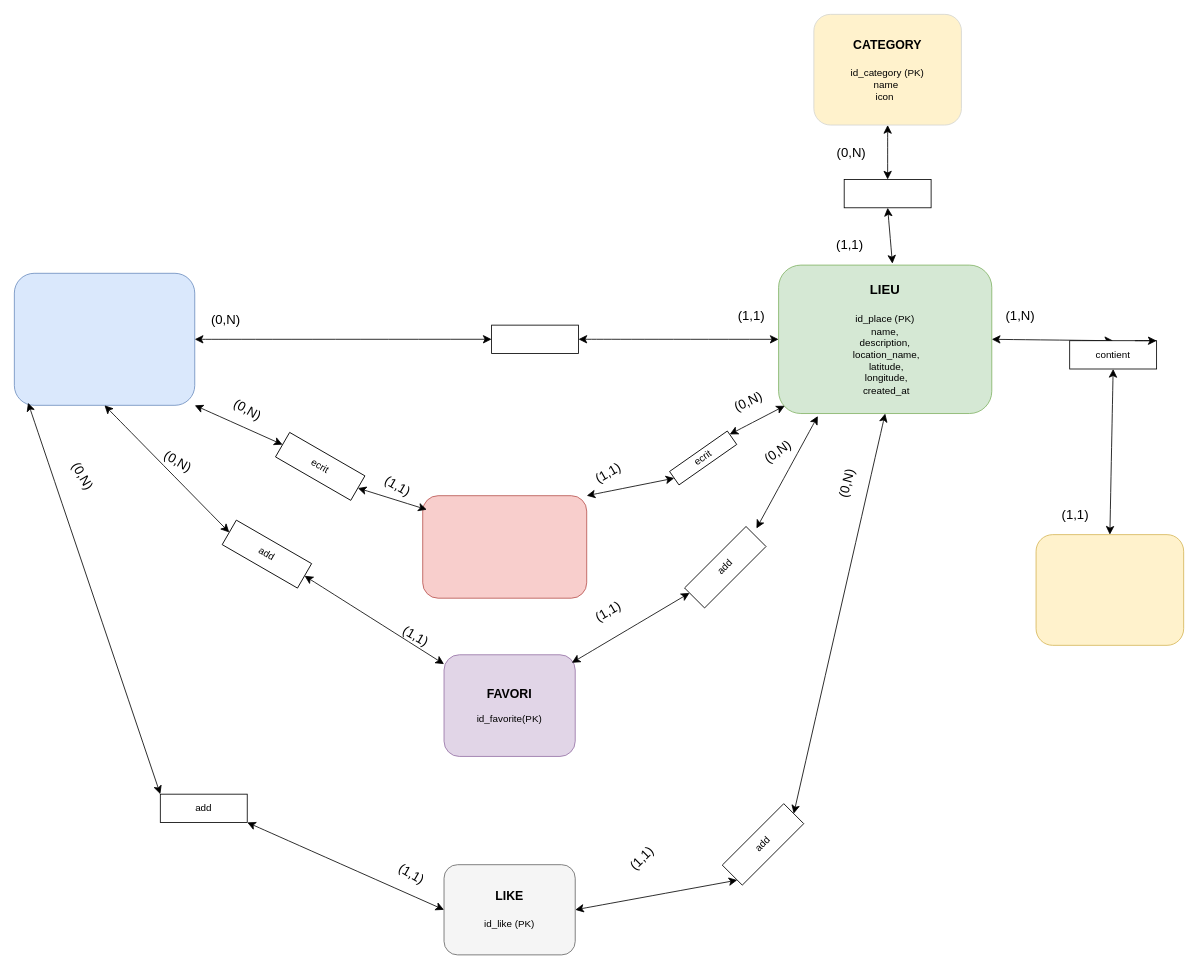
This 1198x969 diagram has some shape labels left out. Here are the shapes that lost their labels. From the top down, the centre of each, then its label:
At point 887,193: "recoit".
At point 104,338: "UTILISATEUR id_user (PK) username, email, password created_at date_nessaince".
At point 535,338: "ajouter".
At point 504,546: "AVIS id_review (PK) , rating, comment, created_at".
At point 1109,589: "IMAGE id_image (PK) image_path".
